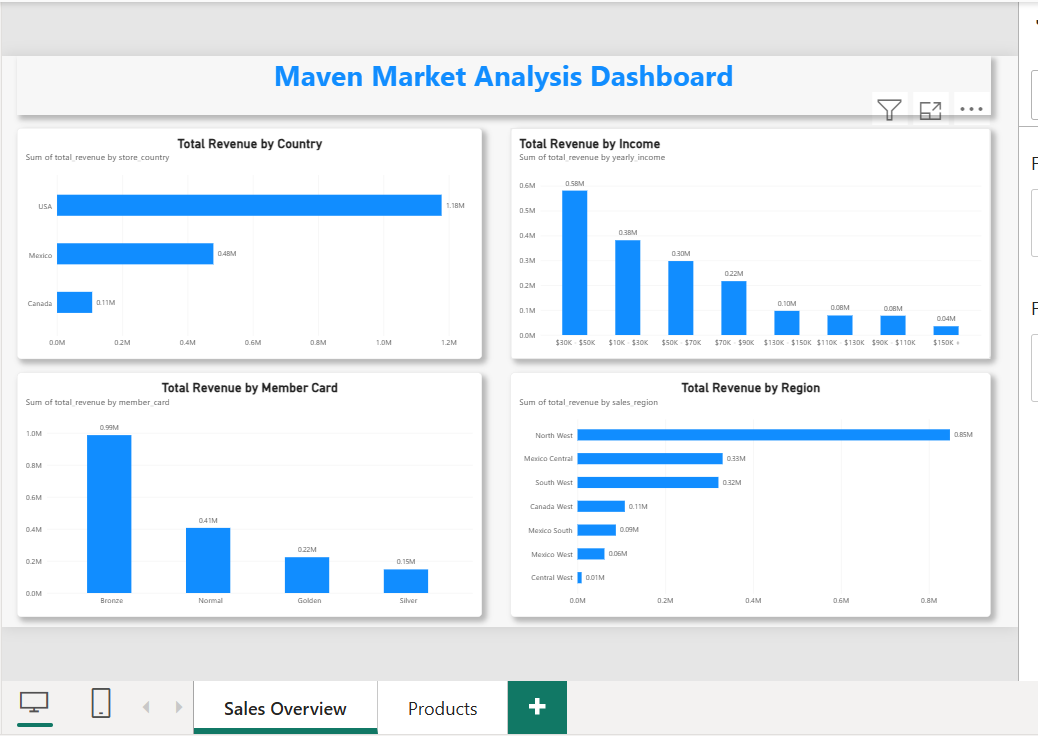

The dashboard page shown, as its layout file describes it:
{"tool":"powerbi","page":{"name":"Sales Overview","canvas":[1920,1080],"ordinal":0},"visuals":[{"type":"barChart","title":"Total Revenue by Country","fields":{"Category":["maven_market revenue_by_country.store_country"],"Y":["Sum(maven_market revenue_by_country.total_revenue)"]},"box":[28.3,136.1,878.7,436.5],"z":0},{"type":"columnChart","title":"Total Revenue by Income","fields":{"Category":["maven_market revenue_by_income.yearly_income"],"Y":["Sum(maven_market revenue_by_income.total_revenue)"]},"box":[961,136.1,907.1,436.5],"z":1},{"type":"clusteredColumnChart","title":"Total Revenue by Member Card","fields":{"Category":["maven_market revenue_by_member_card.member_card"],"Y":["Sum(maven_market revenue_by_member_card.total_revenue)"]},"box":[28.3,598.1,878.7,462.1],"z":2},{"type":"clusteredBarChart","title":"Total Revenue by Region","fields":{"Category":["maven_market revenue_by_region.sales_region"],"Y":["Sum(maven_market revenue_by_region.total_revenue)"]},"box":[961,598.1,907.1,462.1],"z":3},{"type":"textbox","box":[28.3,0,1839.7,110.6],"z":4}]}

Visuals, with their boxes on the page's 1920x1080 design canvas (x1, y1, x2, y2). These are canvas units, not pixel positions in the 1038x736 screenshot, which may show the page scaled, cropped or inside an application window:
"Total Revenue by Country" barChart: l=28, t=136, r=907, b=573
"Total Revenue by Income" columnChart: l=961, t=136, r=1868, b=573
"Total Revenue by Member Card" clusteredColumnChart: l=28, t=598, r=907, b=1060
"Total Revenue by Region" clusteredBarChart: l=961, t=598, r=1868, b=1060
textbox: l=28, t=0, r=1868, b=111
